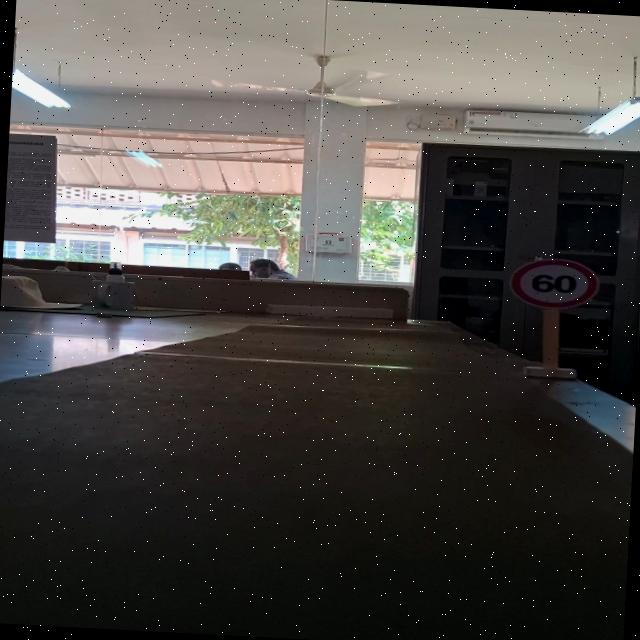Speed60: (506, 255, 604, 313)
